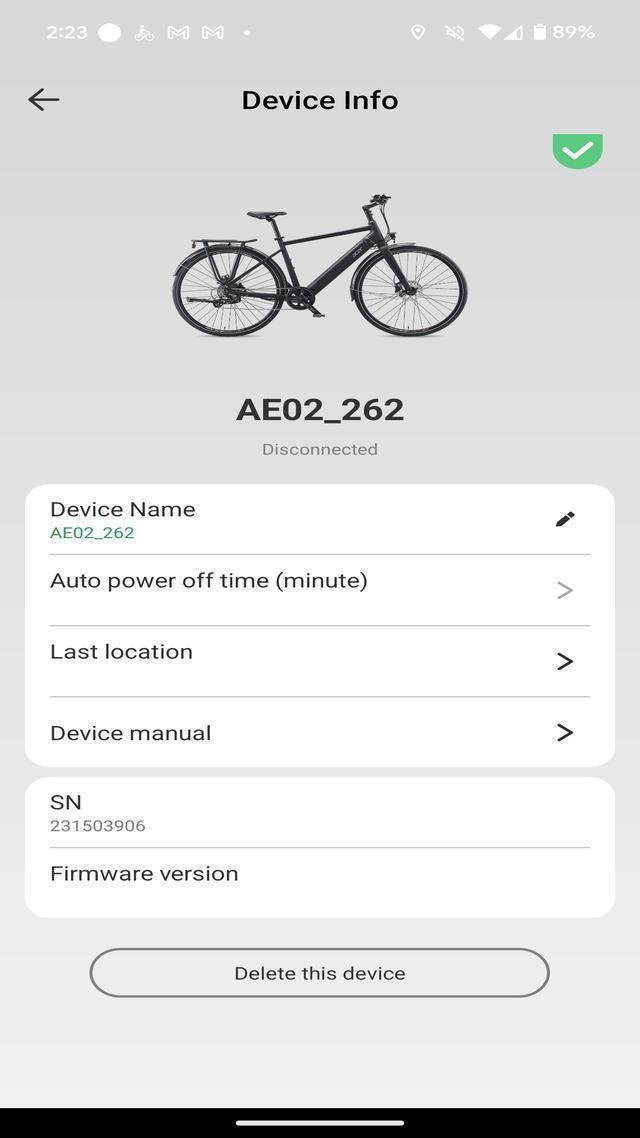Icon: (552, 130, 604, 170), (28, 87, 62, 121), (162, 17, 193, 48), (198, 18, 228, 47), (131, 18, 159, 48), (94, 20, 124, 46), (550, 505, 576, 531), (554, 578, 576, 606), (442, 22, 468, 45), (554, 721, 576, 748), (477, 22, 503, 44), (555, 650, 575, 676), (504, 22, 526, 44), (410, 24, 428, 47), (531, 22, 549, 43), (238, 23, 258, 40)
Image: (164, 185, 474, 350)
Text: (47, 565, 375, 603), (44, 715, 222, 754), (45, 858, 244, 892), (229, 395, 411, 428), (44, 634, 198, 668), (236, 84, 404, 115), (41, 494, 204, 524), (228, 960, 414, 984), (256, 439, 388, 461), (44, 814, 156, 837), (47, 524, 143, 544), (36, 790, 96, 814), (40, 18, 89, 44), (552, 20, 598, 44)
TextButton: (87, 944, 552, 1001)
